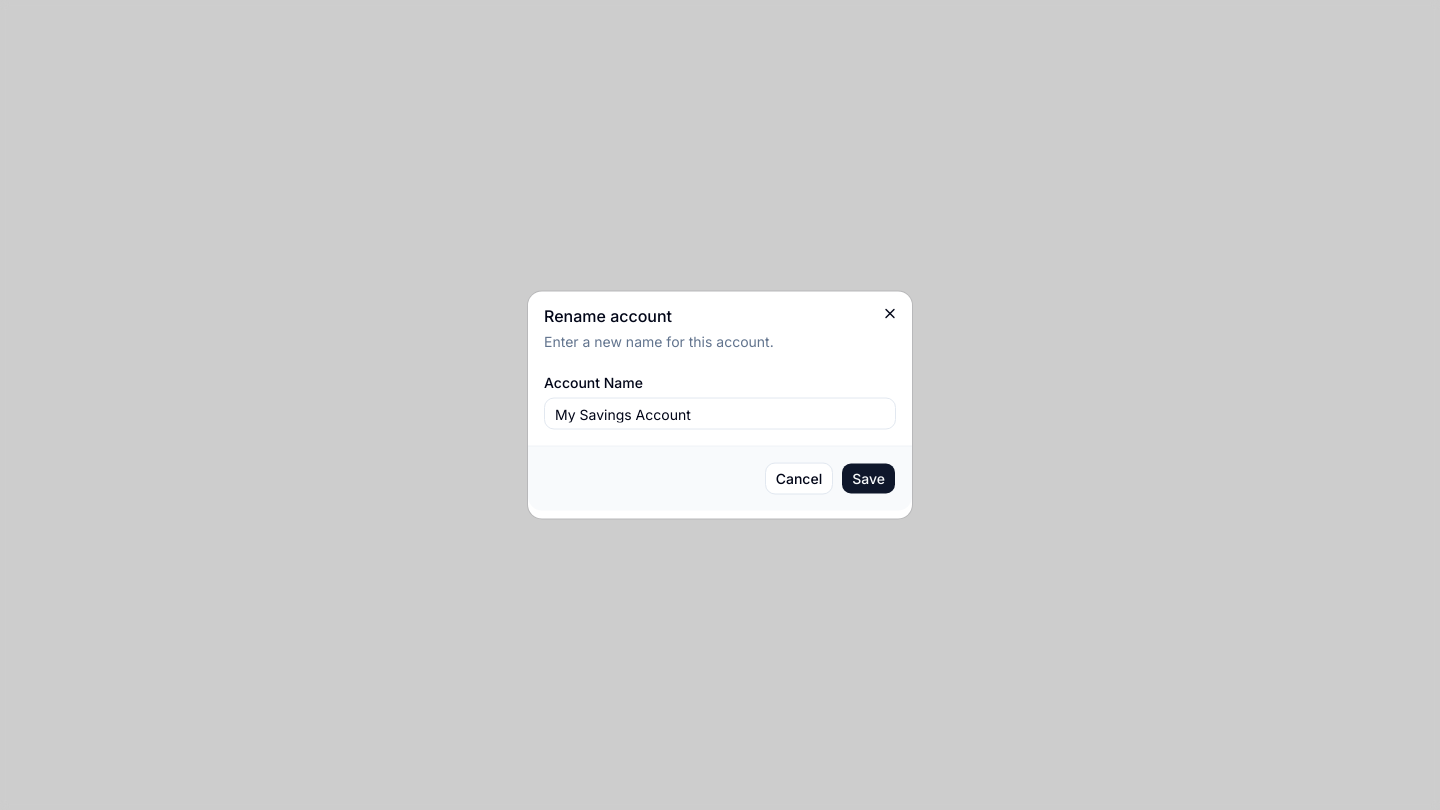
Test: RenameAccountModal › displays error message when onsave rejects and keeps modal open
Replace the text in the field labelled "Account Name" with "New Account Name" at (720, 414), box left=544, top=398, right=896, bottom=430
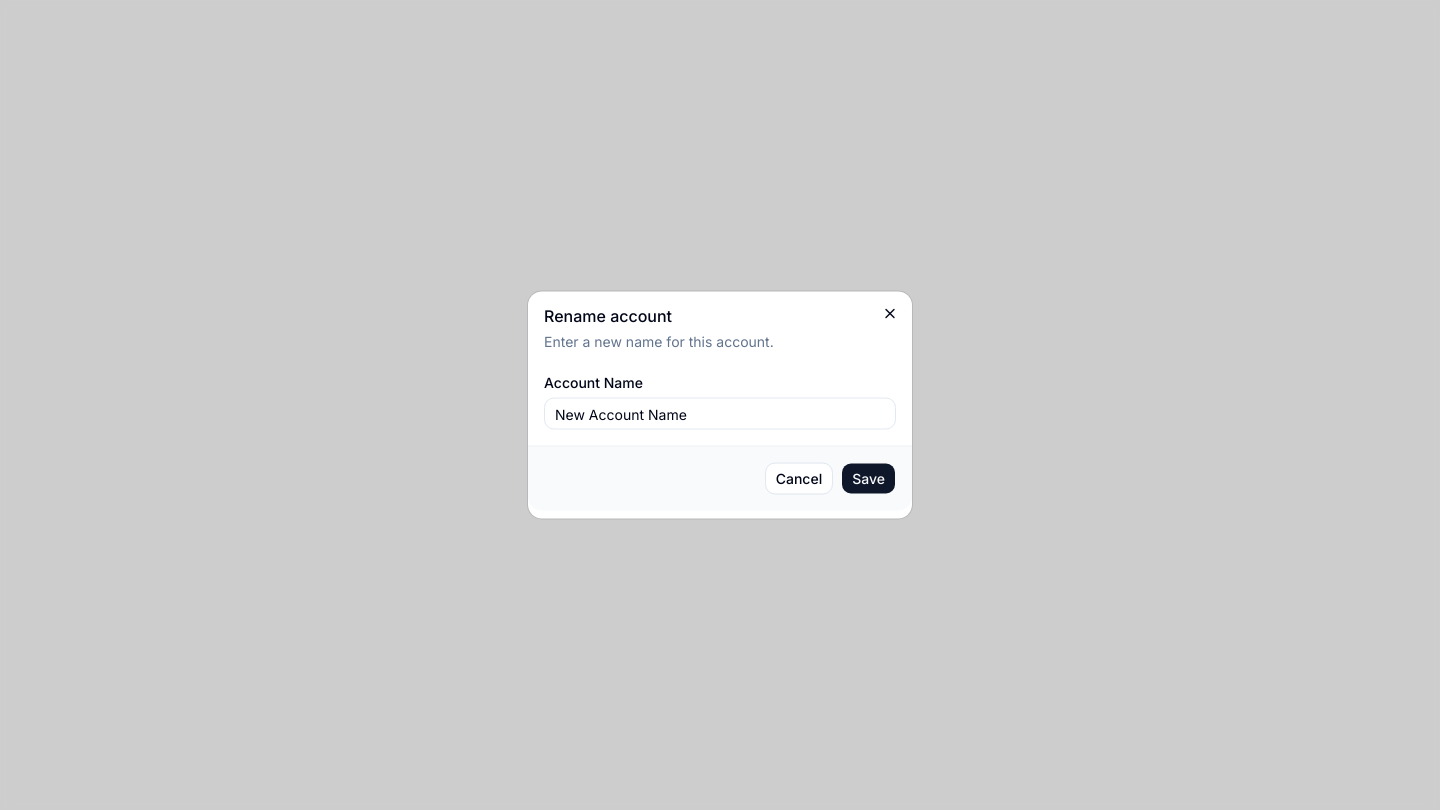
Click the button "Save" at (869, 478), box left=841, top=462, right=896, bottom=494
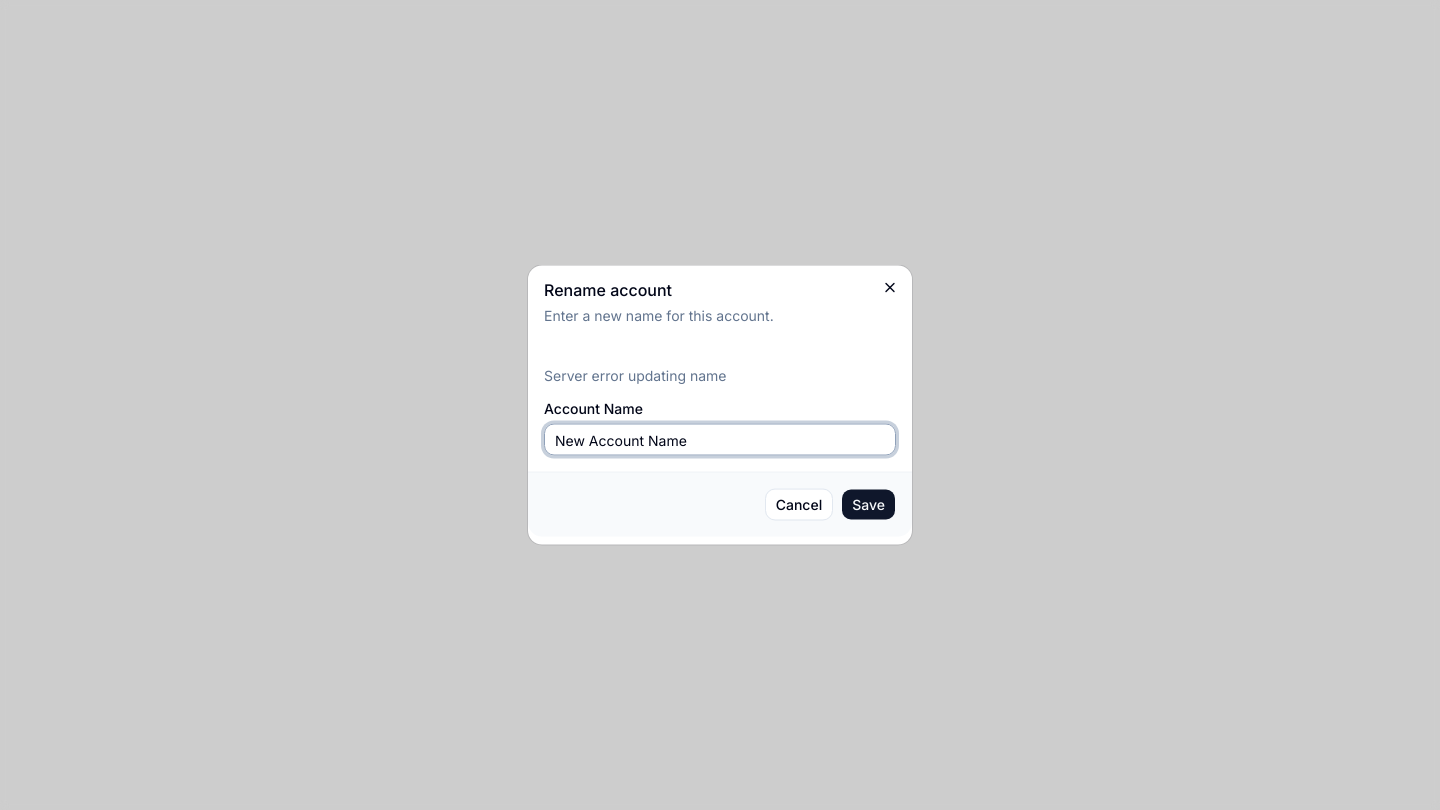
Check: the heading "Rename account" is shown, box left=544, top=280, right=672, bottom=300
Check: the text "Server error updating name" is shown, box left=544, top=366, right=726, bottom=384
